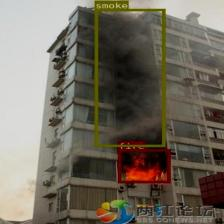fire: (117, 149, 170, 183)
smoke: (94, 8, 164, 146)
